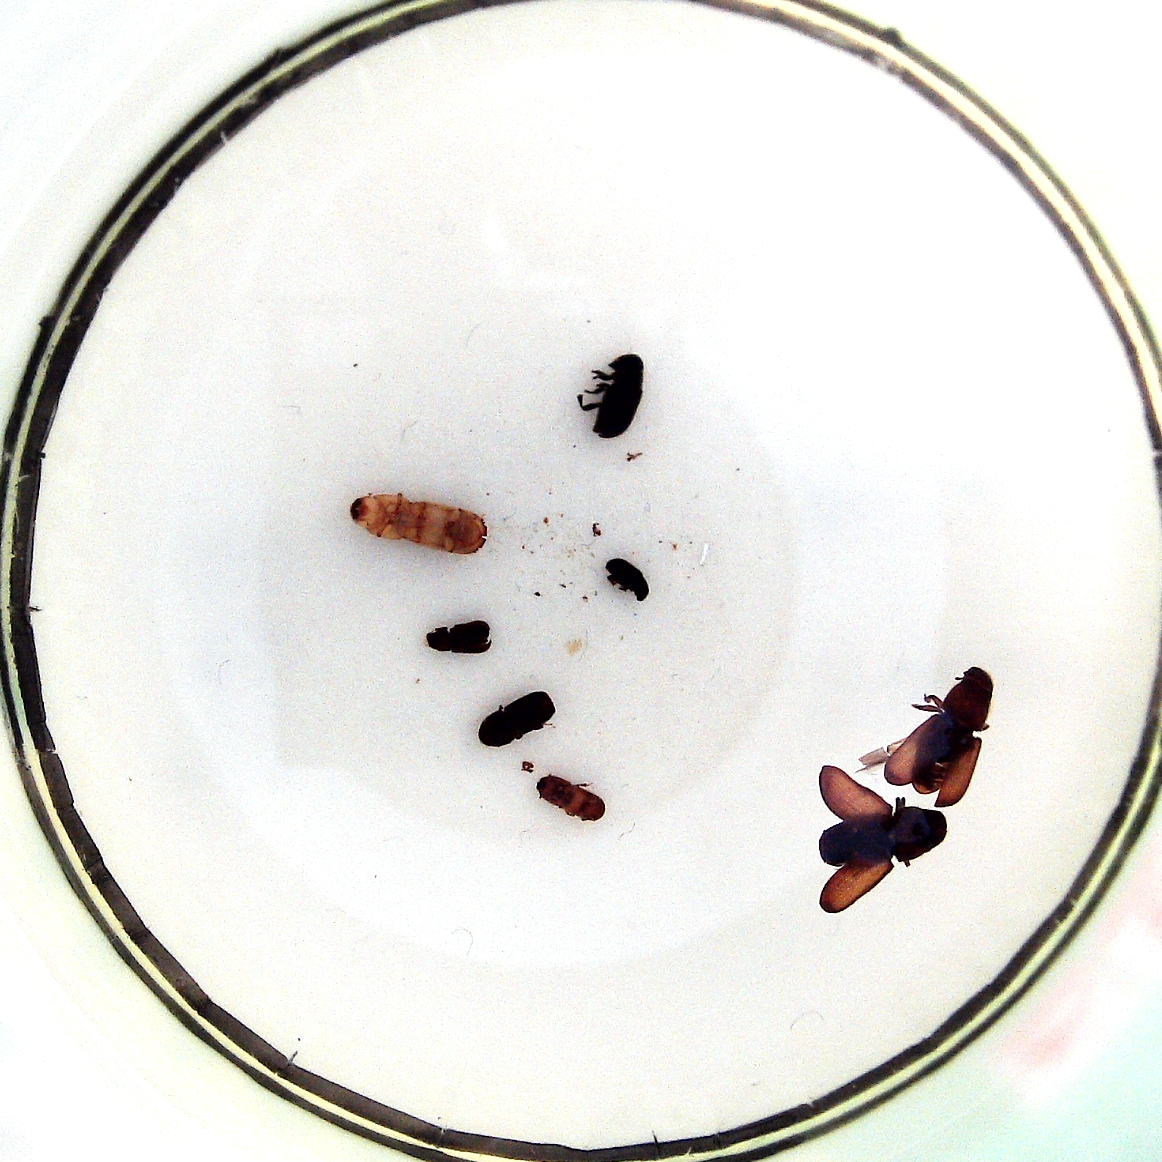Boerner: (352, 493, 486, 555)
Leconte: (885, 667, 993, 795), (819, 804, 949, 870)
acuminatus: (425, 620, 491, 655), (605, 559, 650, 601)
armandi: (591, 355, 643, 437)
coleoptera: (534, 775, 605, 821)
linnaeus: (480, 691, 557, 746)
